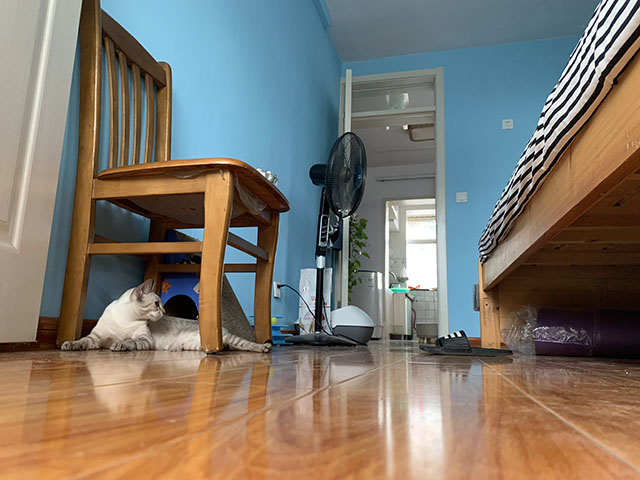bed: (477, 1, 640, 354)
slippers: (418, 330, 514, 357)
stool: (53, 1, 294, 355), (414, 322, 439, 346)
wire: (277, 283, 369, 348)
